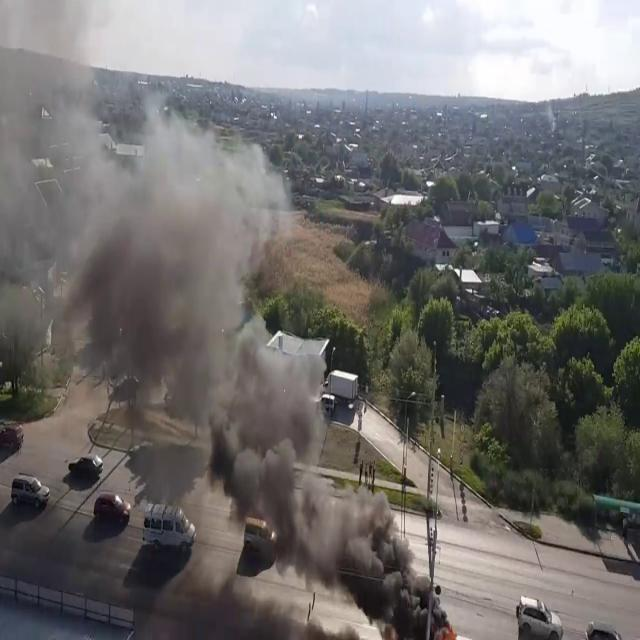Smoke: (0, 2, 345, 522), (306, 462, 434, 630), (543, 90, 561, 142)
